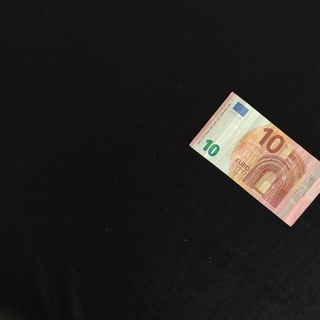10EUROFront: (188, 90, 320, 227)
